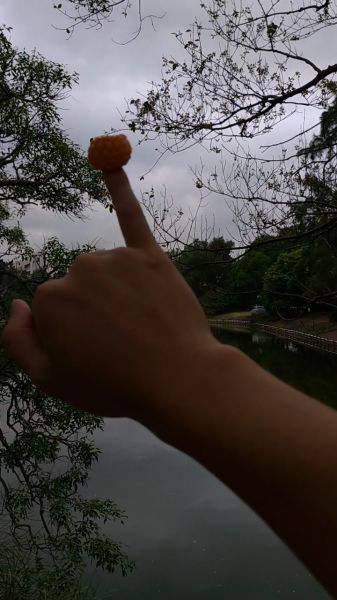eggs: (86, 134, 138, 171)
